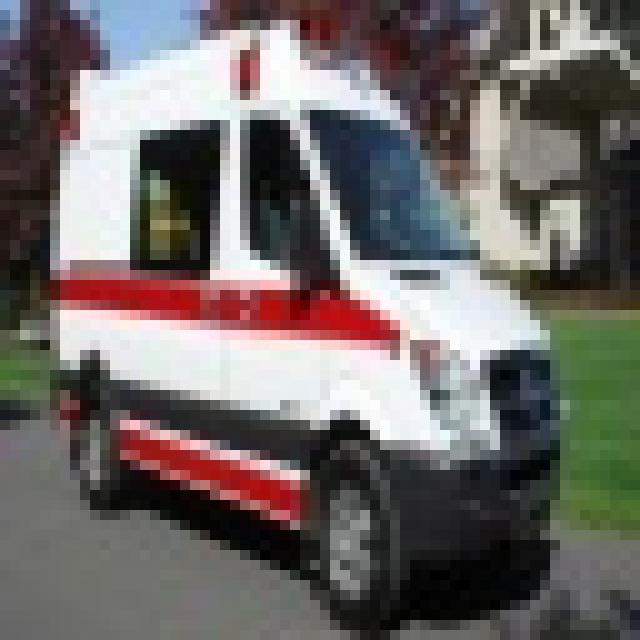Ambulance: (40, 10, 560, 630)
